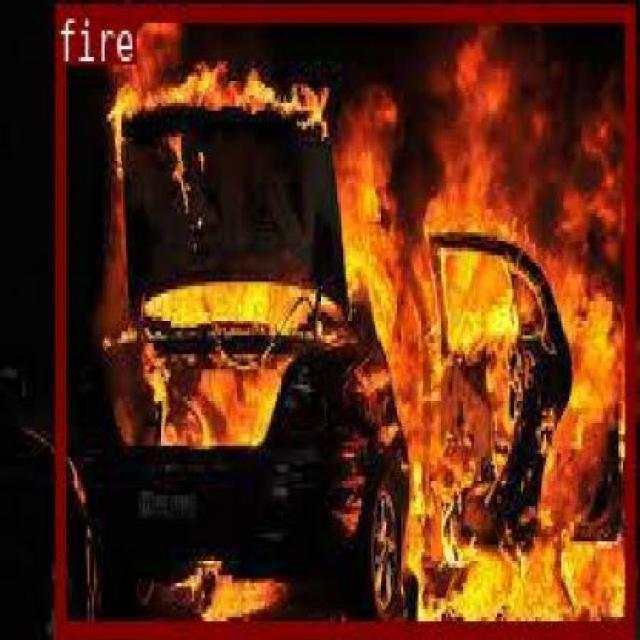Fire: (83, 0, 640, 605)
Smoke: (412, 40, 608, 282)
